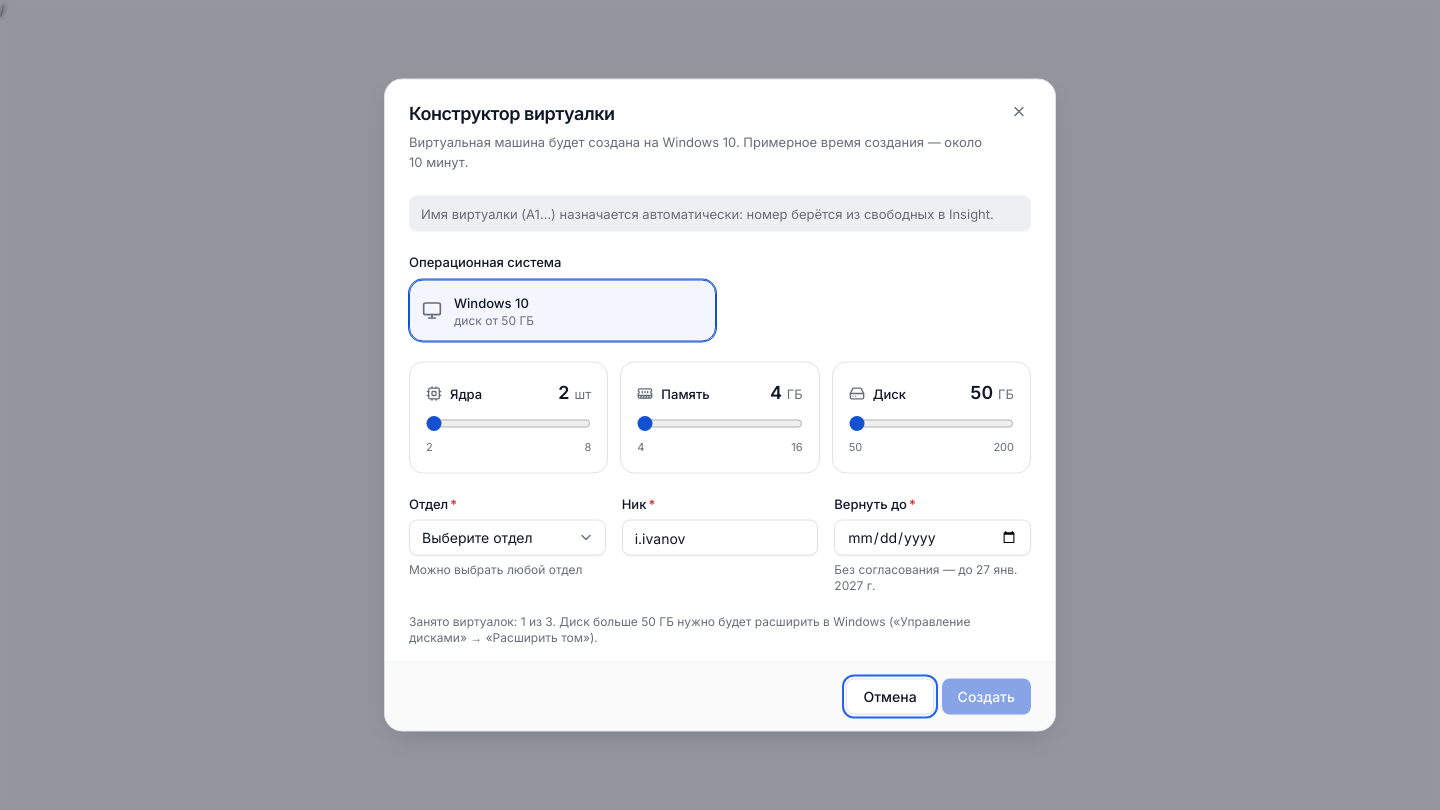
VmBuilderDialog › отправка › шлёт выбранные параметры, показывает toast, закрывает окно и ведёт в «Мою аренду»
The image size is (1440, 810).
Expected: the field labelled "Ник*" holds "i.ivanov", [622, 520, 818, 556]
Select "Аналитика" in the dropdown labelled "Отдел* Можно выбрать любой отдел": coordinates (507, 538) [409, 520, 606, 556]
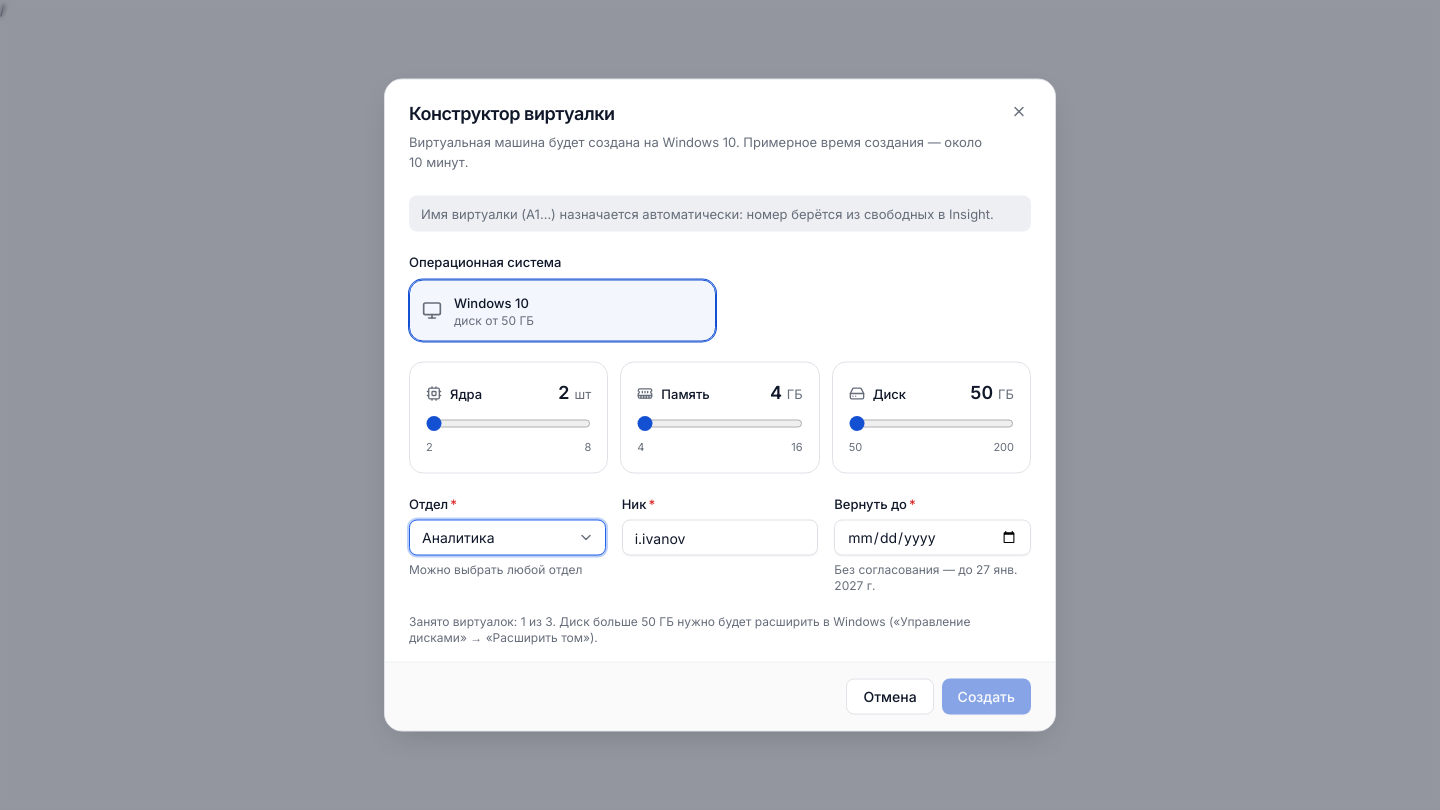
In the date field labelled "Вернуть до": coordinates (933, 538) [834, 520, 1031, 556], type "2099-12-31"
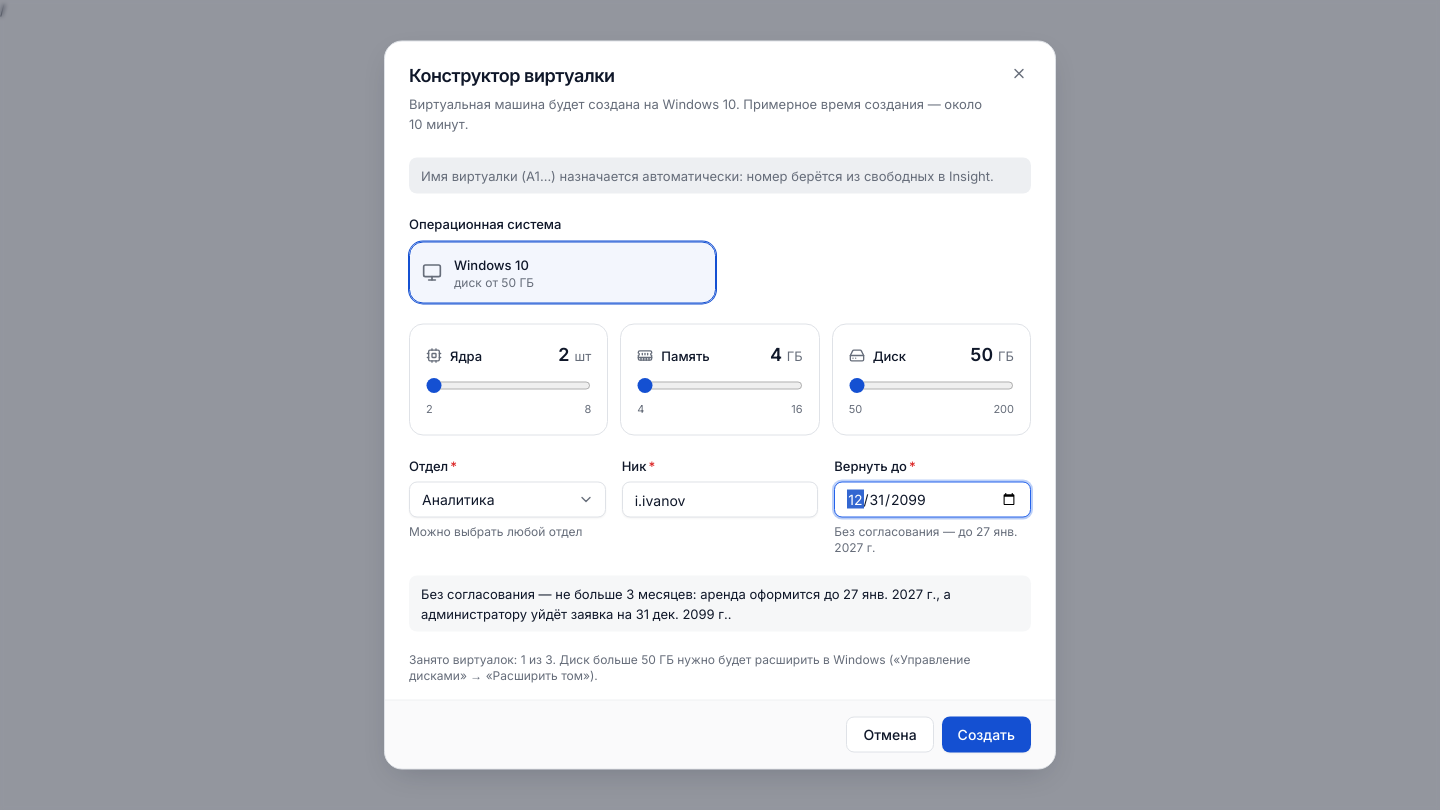
Set the slider named "Ядра" to "6": coordinates (534, 386) [426, 378, 591, 394]
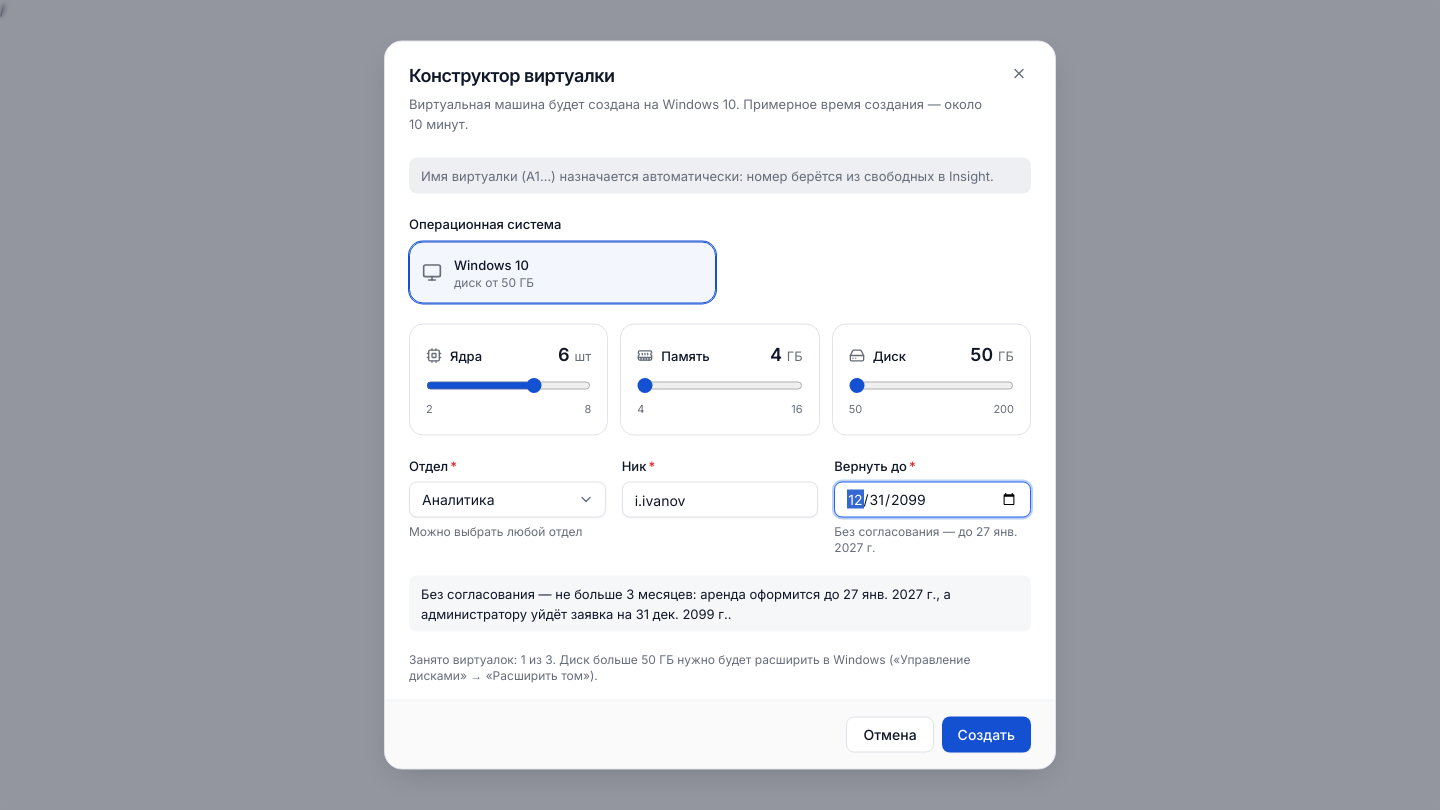
Set the slider named "Память" to "12": coordinates (745, 386) [637, 378, 803, 394]
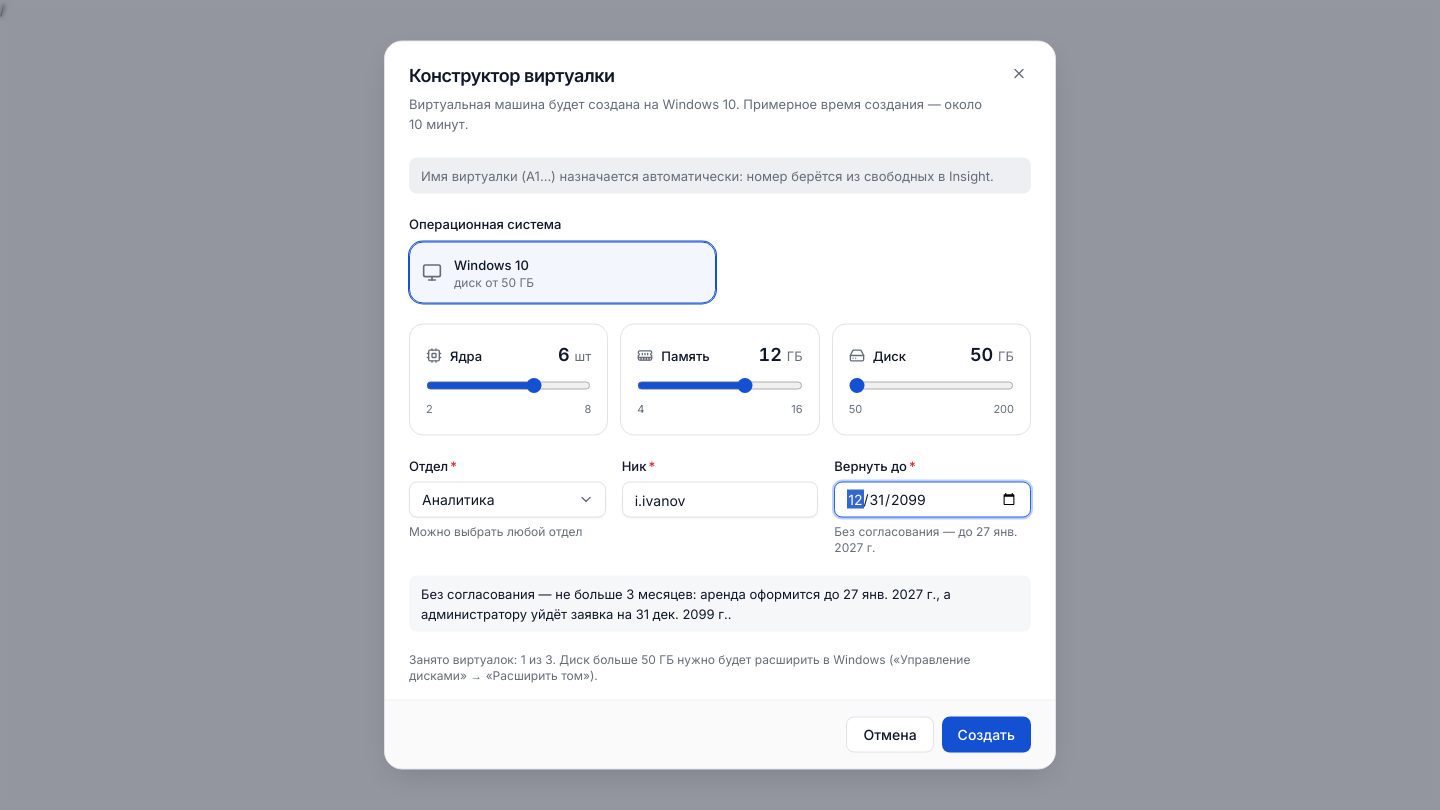
Set the slider named "Диск" to "120": coordinates (926, 386) [849, 378, 1014, 394]
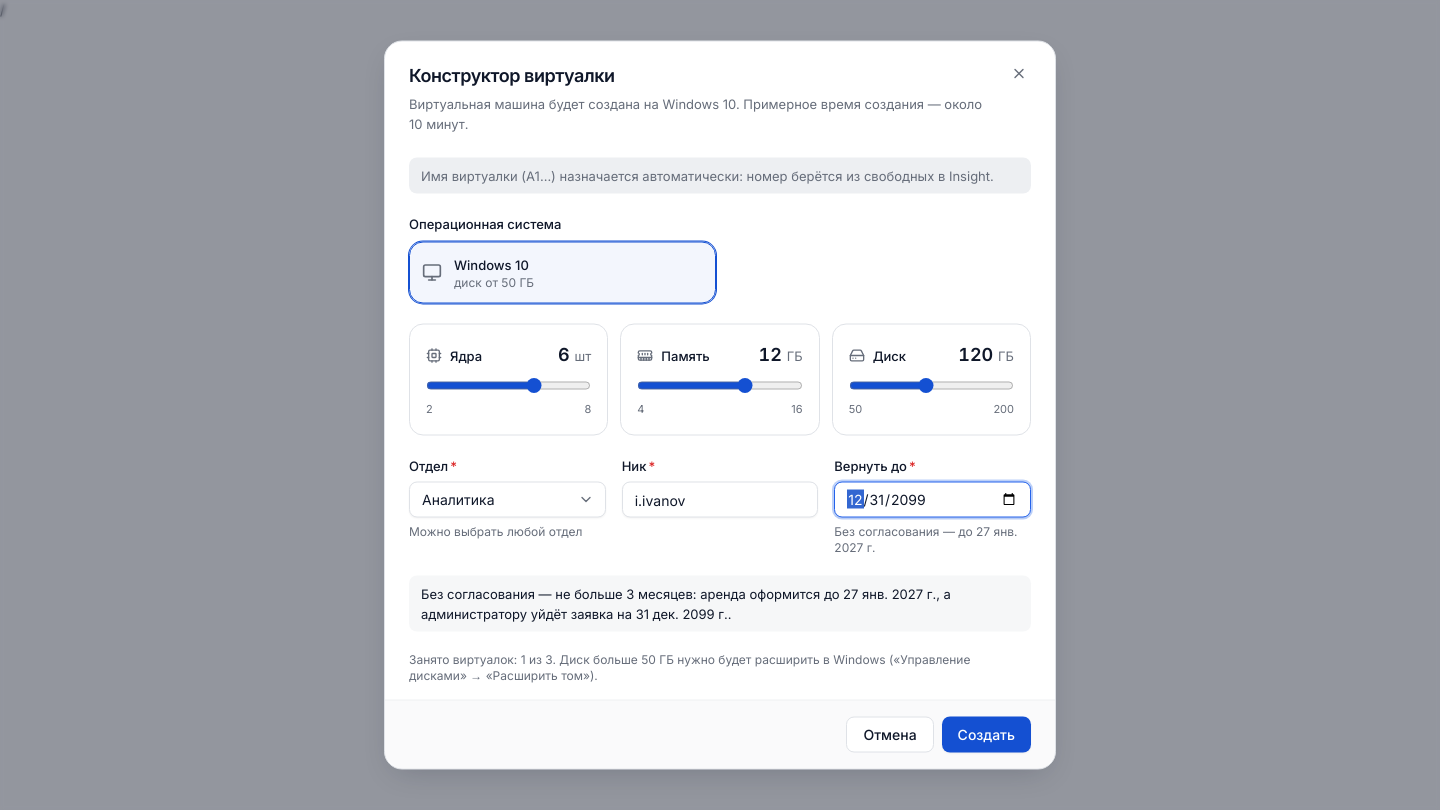
Click the button "Создать": coordinates (986, 734) [942, 716, 1031, 752]
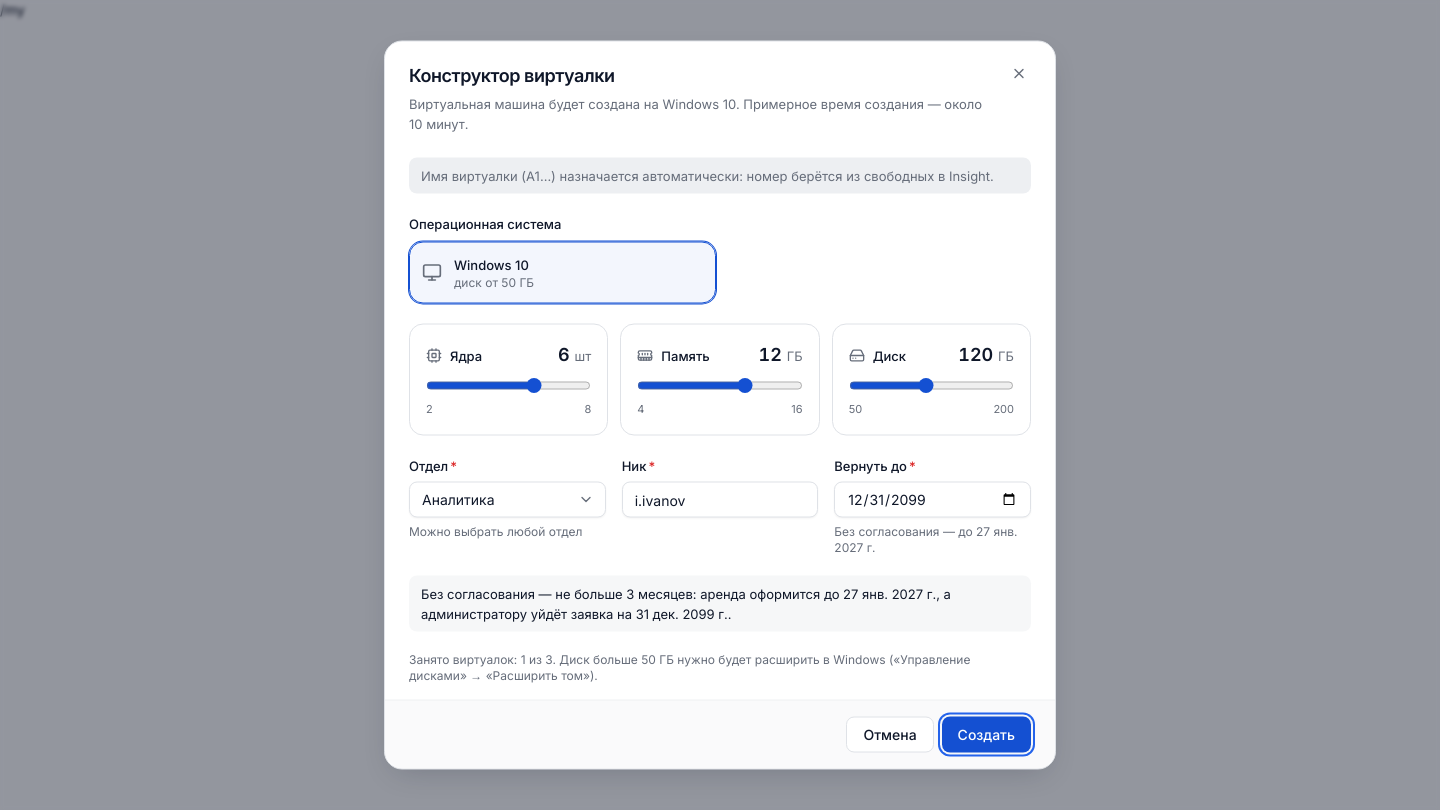
Expected: the text with test id "path" reads "/my", [0, 1, 25, 18]
